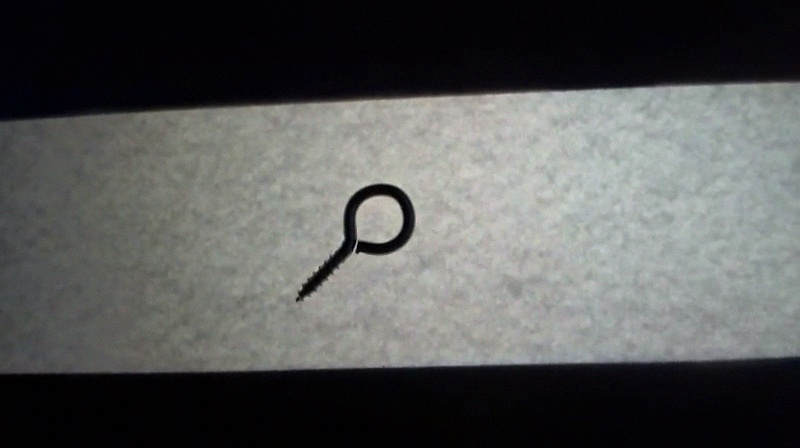O001: (292, 179, 422, 303)
